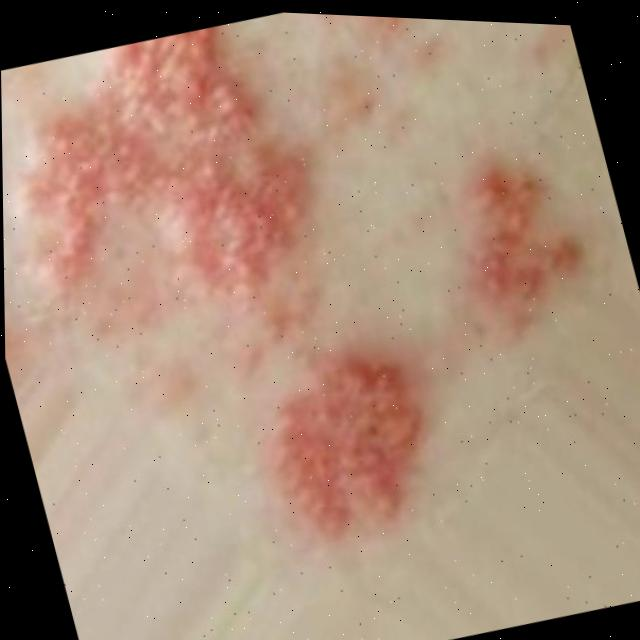Shingles: (0, 4, 336, 363), (430, 145, 607, 345), (253, 345, 437, 533), (342, 15, 458, 73)
